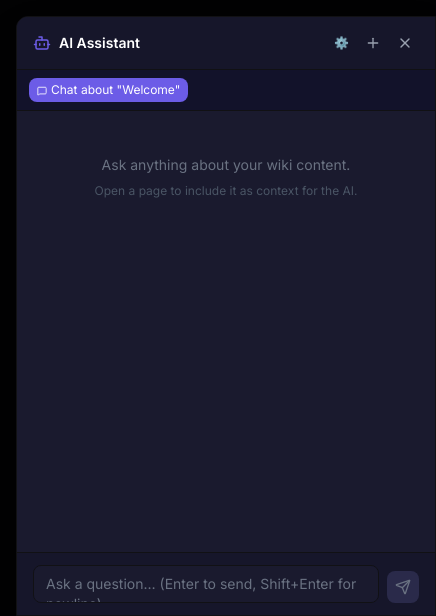
Test case: AiAssistant › loading state › shows loading indicator (spinner) while AI is responding
The image size is (436, 616).
Type "Loading test" into the text box with placeholder "Ask a question… (Enter to send, Shift+Enter for newline)" at (206,584), box [33, 565, 379, 603]
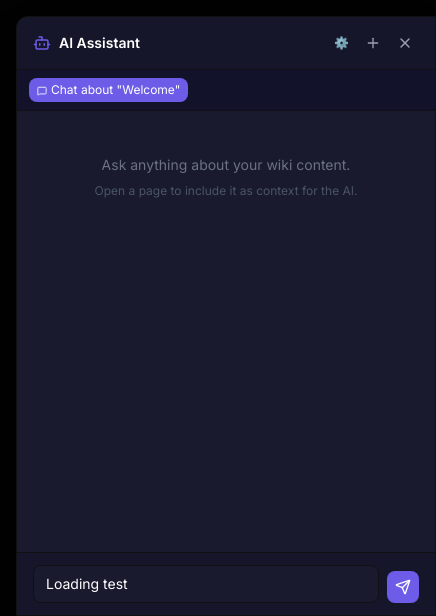
Click the button named "Send message" at (403,587), box [387, 571, 419, 603]
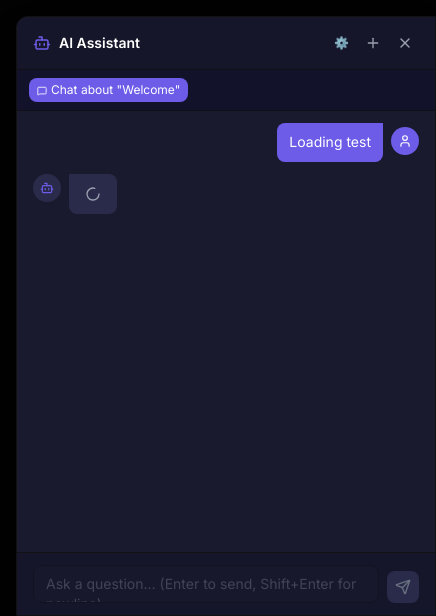
Result: the icon with class "animate-spin" is shown at [85, 186, 101, 202]
